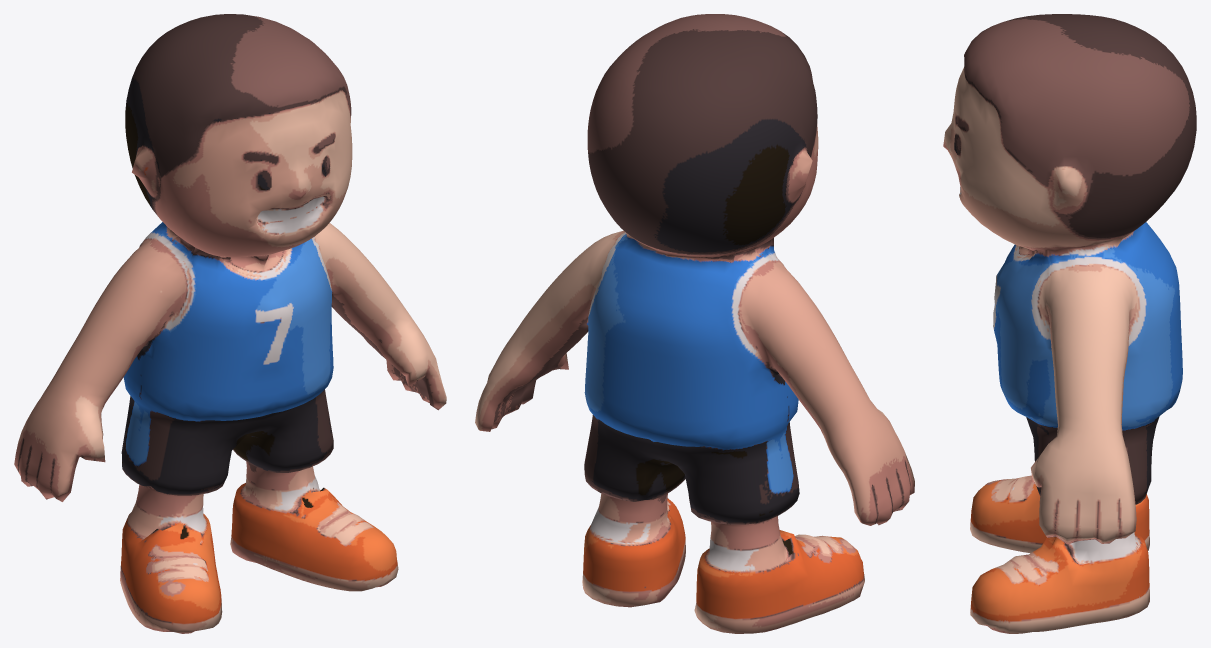
Rendered from pota-hero.glb.
The picture shows the model from 3 angles, left to right: view 1: azimuth 30°, elevation 25°; view 2: azimuth 150°, elevation 25°; view 3: azimuth 270°, elevation 25°; orthographic projection.
Visible parts, largest first — view 1: character; view 2: character; view 3: character.
Boxes of the visible parts, <box> form: character: <box>14,14,446,633</box>; character: <box>475,14,914,633</box>; character: <box>943,14,1196,633</box>.
Size of the model in its own units: 0.7681 by 0.9999 by 0.419.
1 material, 1 textured.
